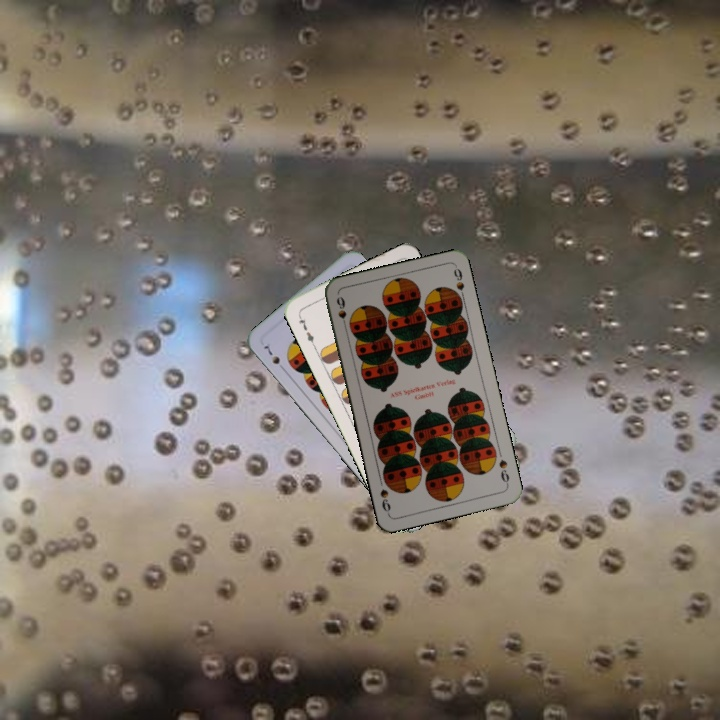E7: (294, 310, 317, 348)
S7: (260, 341, 288, 374)
S9: (332, 292, 350, 332), (495, 455, 512, 488)
